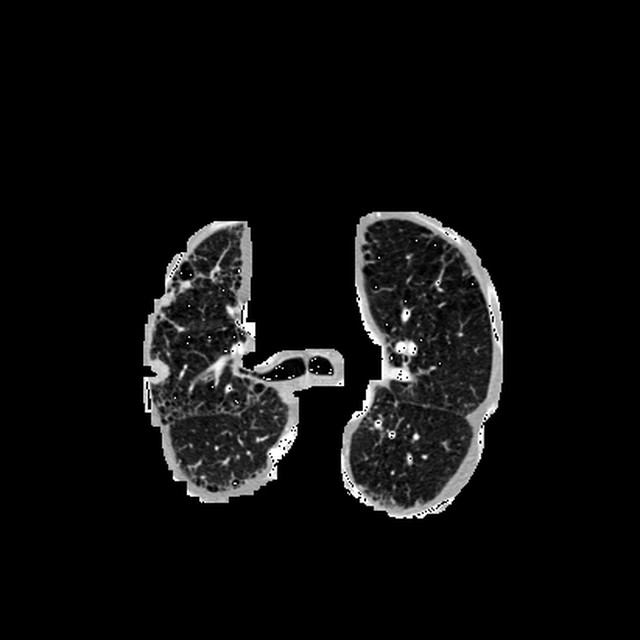PN: (145, 358, 170, 383)
